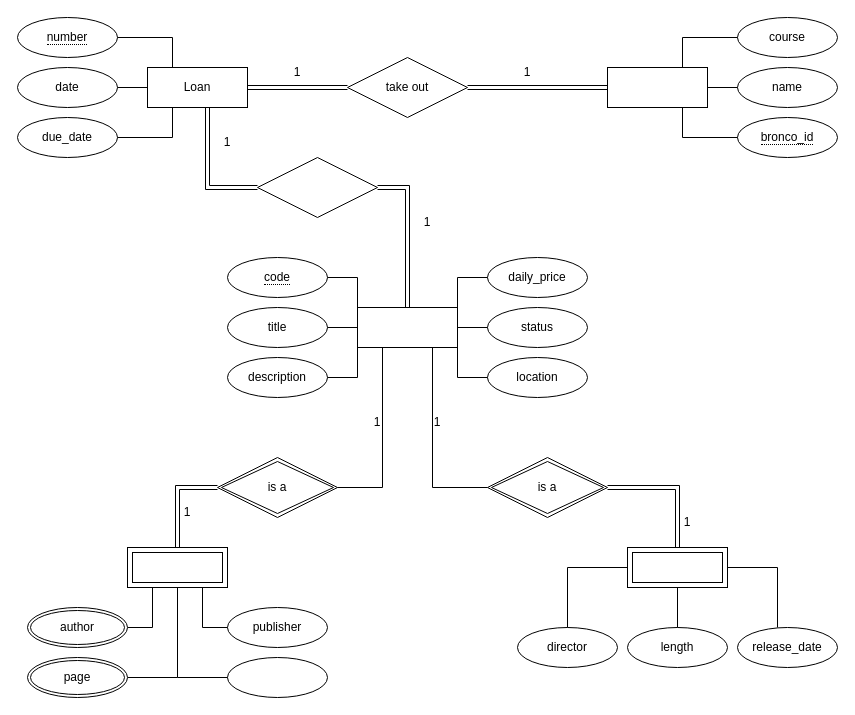
This 855x715 diagram has some shape labels left out. Each missing label, with the centre of its shape:
Book: point 177,567
Documentary: point 677,567
has: point 317,187
Item: point 407,327
publication_date: point 277,677
Student: point 657,87
